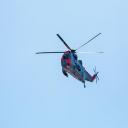helicopter: (37, 34, 108, 89)
